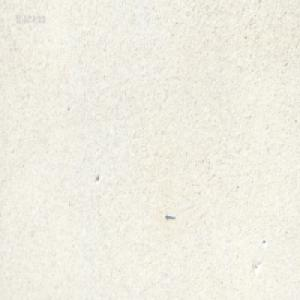Nail: (165, 212, 175, 219)
